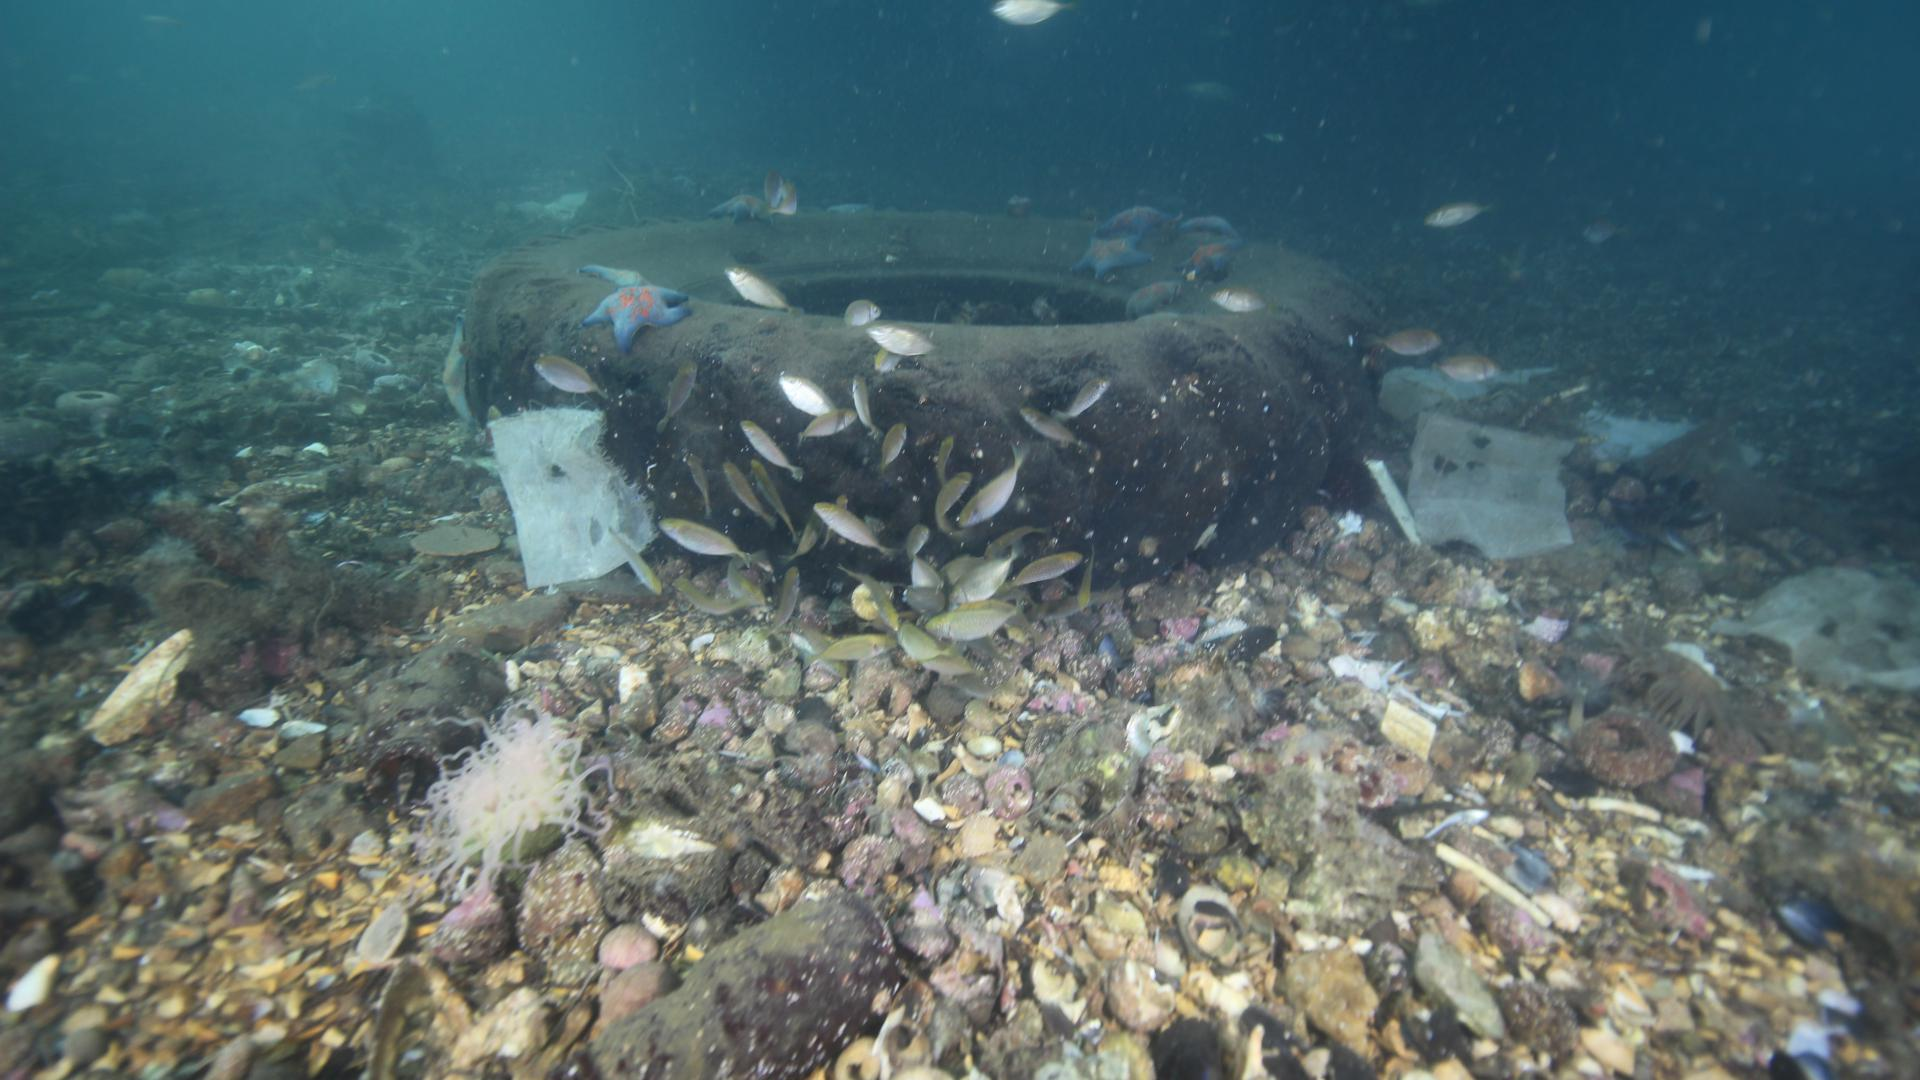tire: (460, 203, 1379, 591)
